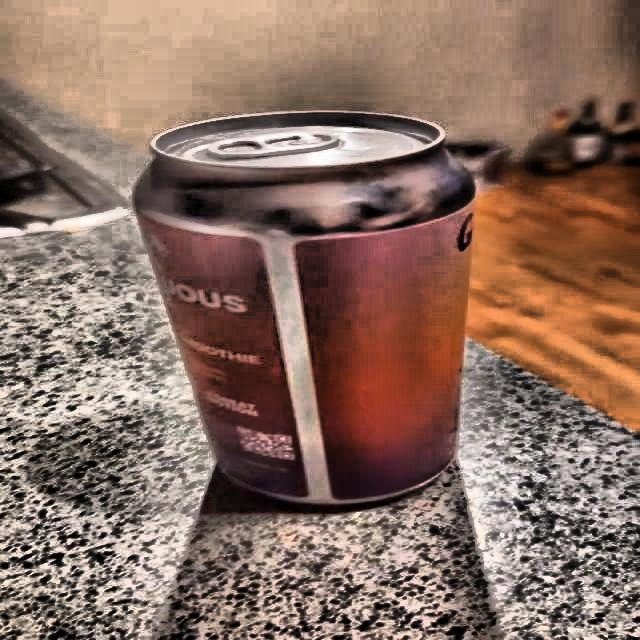can: (122, 96, 491, 524)
